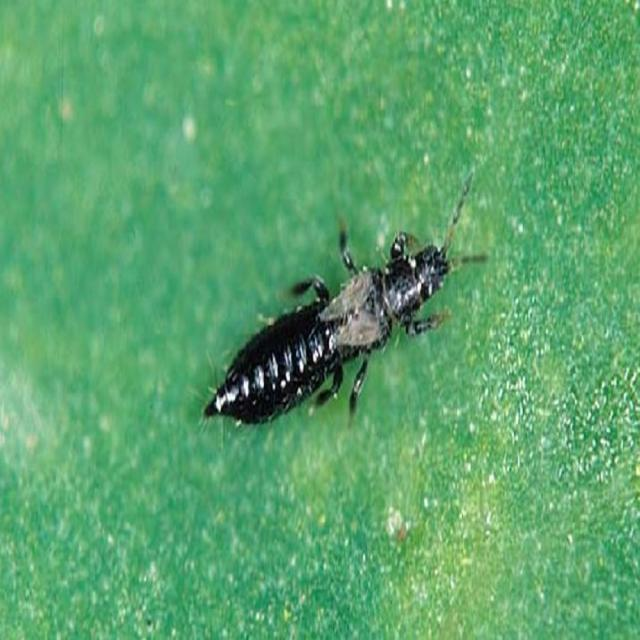Thrip-Adult-: (190, 162, 496, 446)
